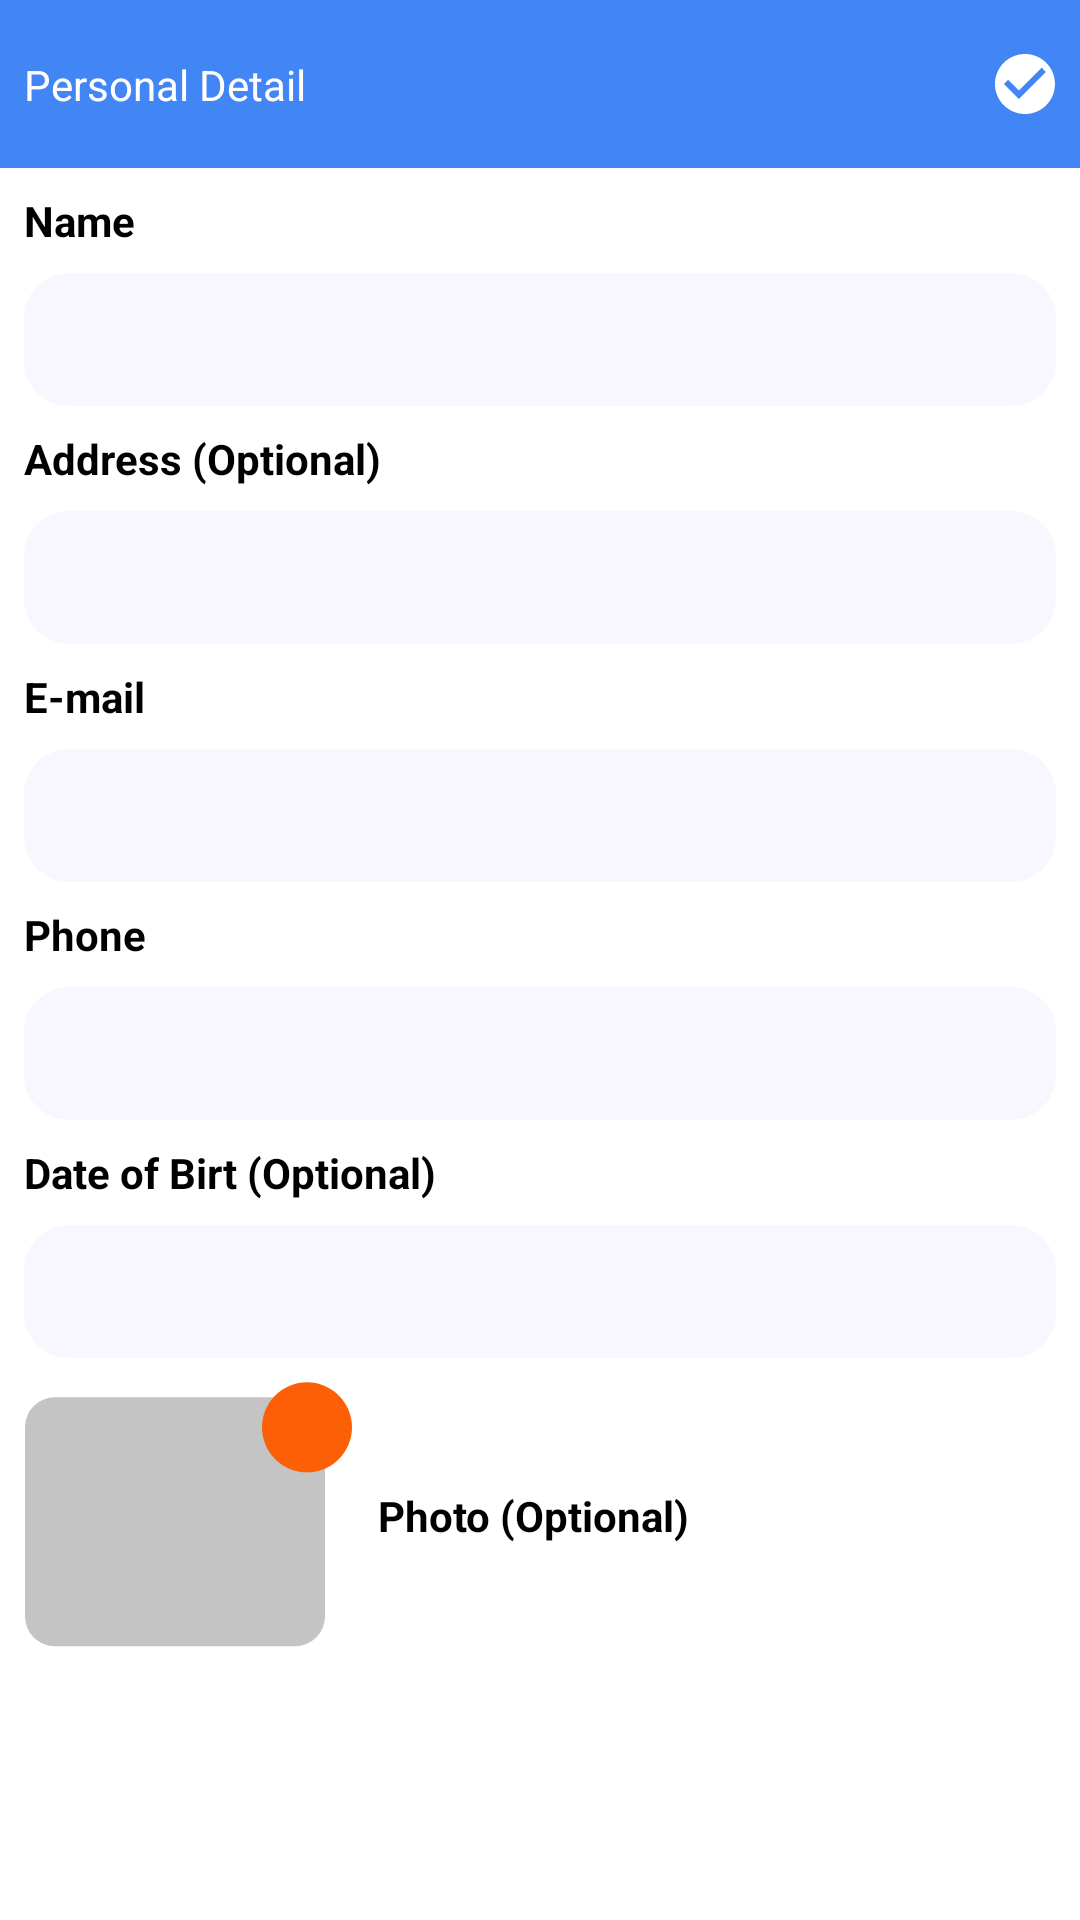

Icon bounding boxes for this 1080 × 1920 phone screenshot, format box(x1, y1, x2, y2):
check: box(995, 54, 1055, 114)
